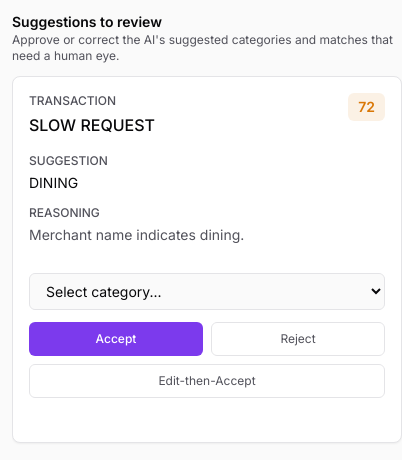
Test case: EPIC-018 / UI Gap Audit / Phase 5 Confidence + AI Review UI › AC-extraction.classification-hardening.6 — locks the buttons of a row while its request is in flight
Click the button "Reject": x=298, y=339 [211,322,385,356]
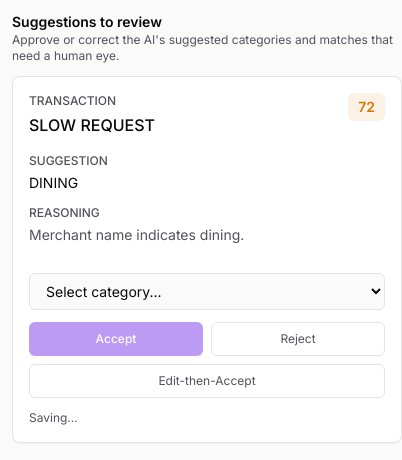
Expected: the button "Edit-then-Accept" is disabled, [29,364,385,398]
Result: the text "Saving..." is shown at [29,410,78,425]
Result: the button "Accept" is disabled at [29,322,203,356]
Click the button "Reject": x=298, y=339 [211,322,385,356]
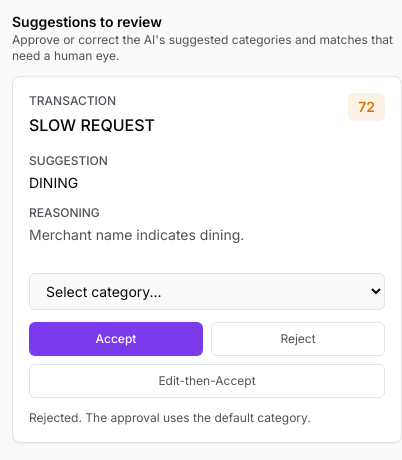
Result: the text "Rejected. The approval uses the default category." is shown at [29,410,311,425]
Result: the button "Accept" is enabled at [29,322,203,356]
